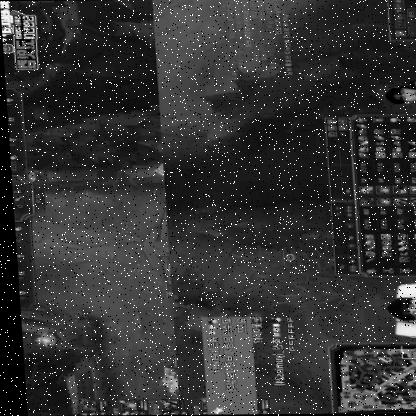streamer: (380, 276, 416, 337), (379, 69, 416, 112)
